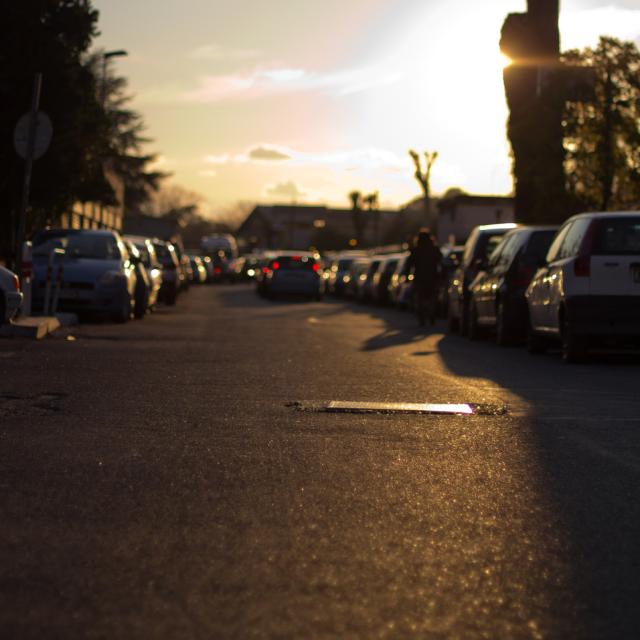car: (264, 249, 325, 299)
